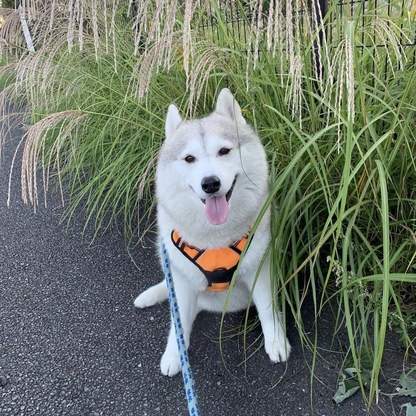husky: (130, 84, 295, 381)
